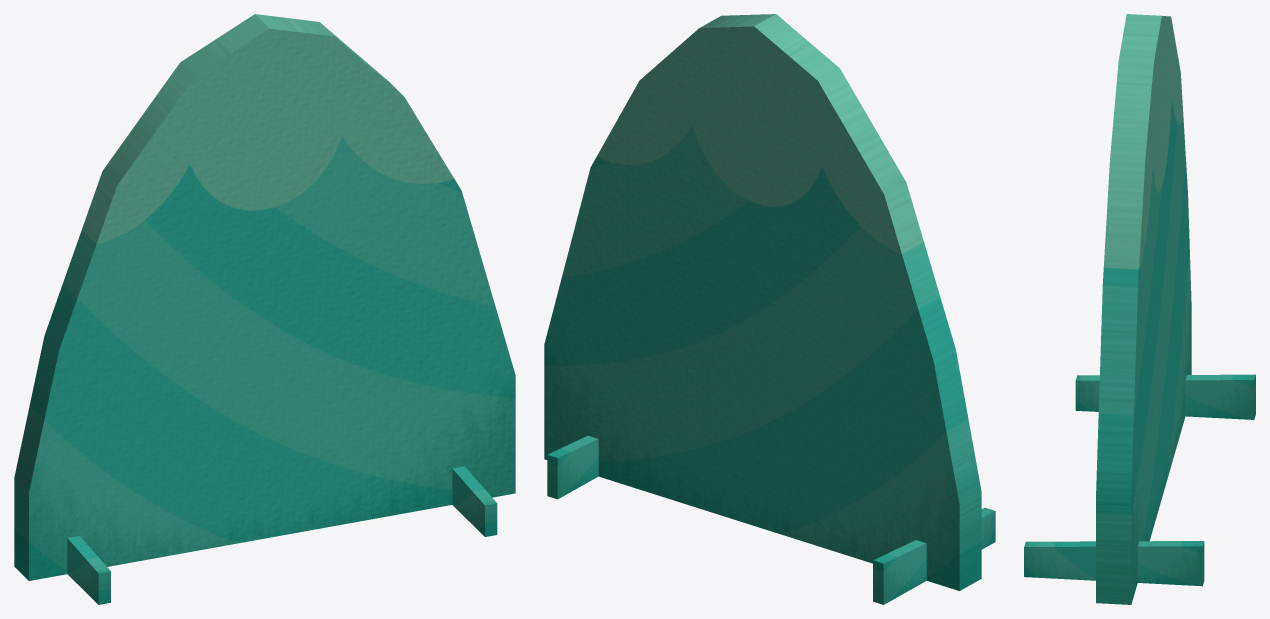
File: mountain.fbx
3 renders of one model, left to right at view 1: azimuth 30°, elevation 25°; view 2: azimuth 150°, elevation 25°; view 3: azimuth 270°, elevation 25°, orthographic. The views are drawn at different scales.
Visible parts, largest first — view 1: Mountain; view 2: Mountain; view 3: Mountain.
Part boxes in pixels (x1,y1,x2,y2): Mountain: (14, 14, 515, 604); Mountain: (544, 14, 995, 604); Mountain: (1024, 14, 1255, 604).
Size of the model in its own units: 86.77 by 92 by 40.01.
